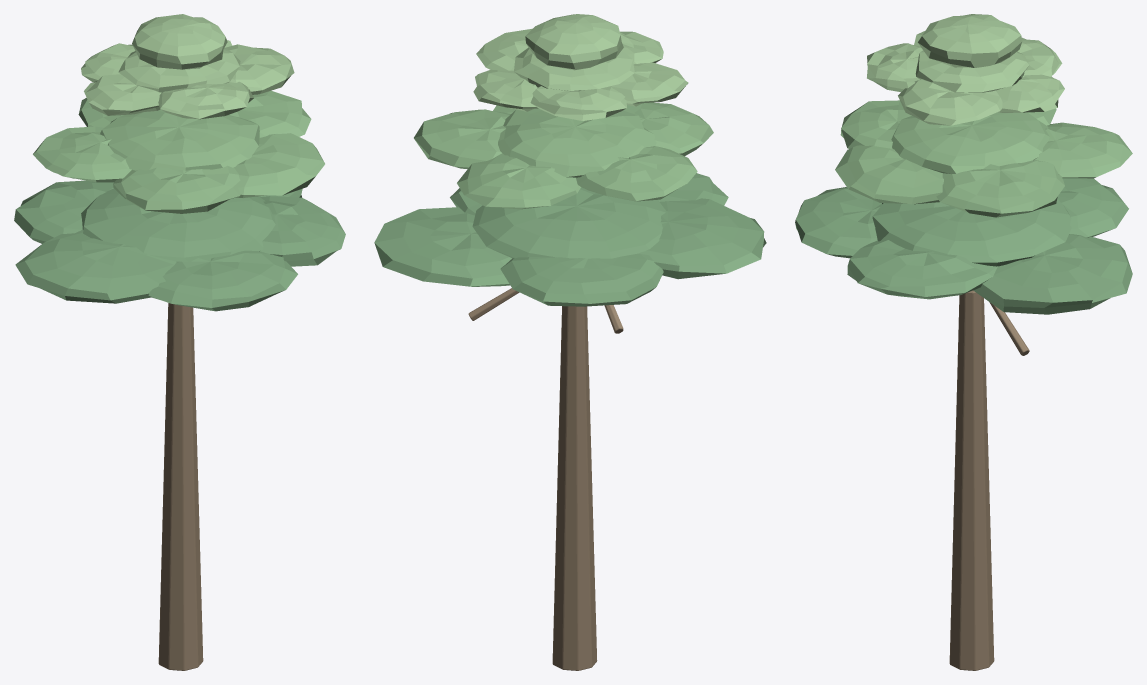
The model's file is pine.glb.
3 renders of one model, left to right at view 1: azimuth 30°, elevation 25°; view 2: azimuth 150°, elevation 25°; view 3: azimuth 270°, elevation 25°, orthographic.
Parts seen in each view (by area): view 1: Canopy, Trunk; view 2: Canopy, Trunk; view 3: Canopy, Trunk, Branch.
Boxes of the visible parts, x1,y1,x2,y2 form: Canopy: (14, 14, 345, 311); Trunk: (158, 303, 203, 670); Canopy: (374, 14, 766, 306); Trunk: (552, 306, 597, 670); Canopy: (795, 14, 1132, 314); Trunk: (949, 290, 994, 670); Branch: (989, 302, 1029, 355).
Size of the model in its own units: 3.83 by 7.32 by 3.51.
